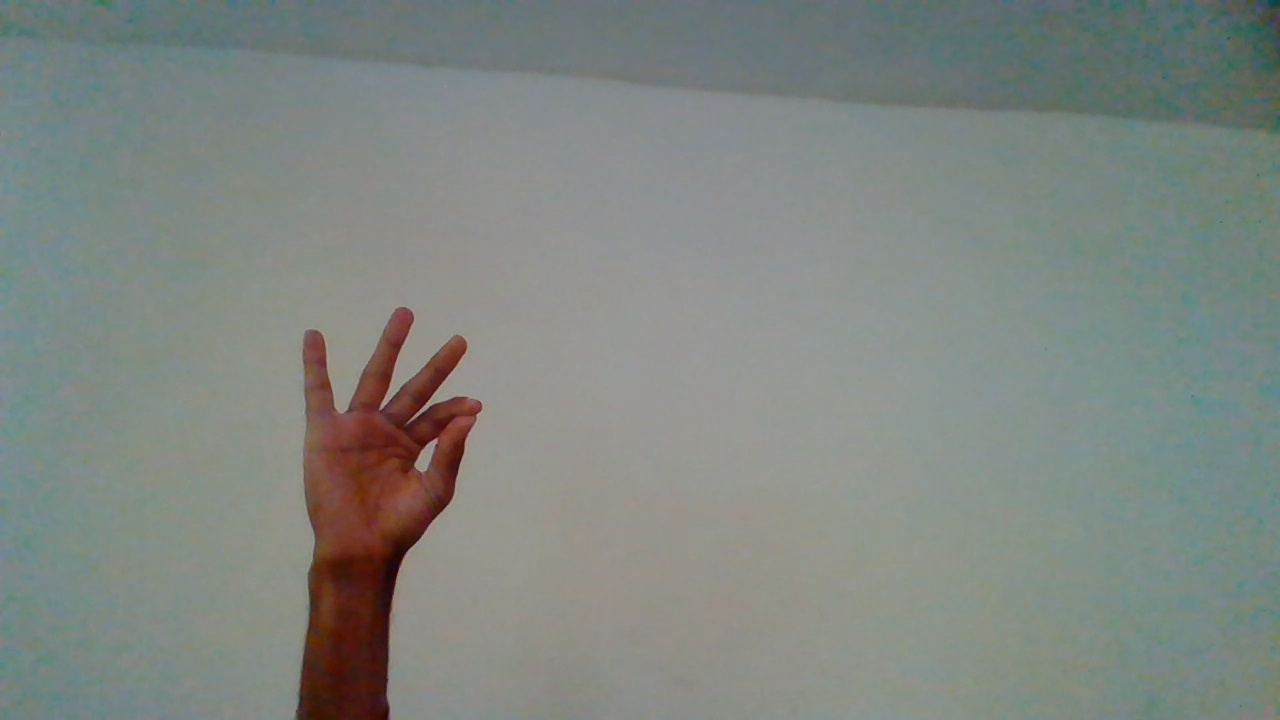le: (300, 305, 474, 720)
